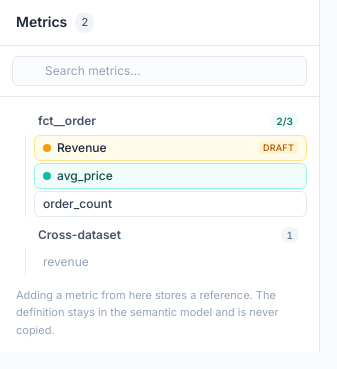
it: MetricSidebar › says so when the search matches nothing
In the search field with test id "metric-sidebar-search": {"x": 160, "y": 70} [12,56,307,86], type "no-such-metric"
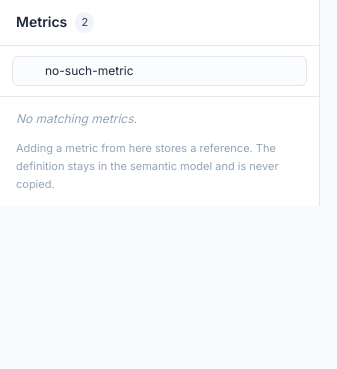
Expected: the text "No matching metrics." is shown, [16,110,137,126]
